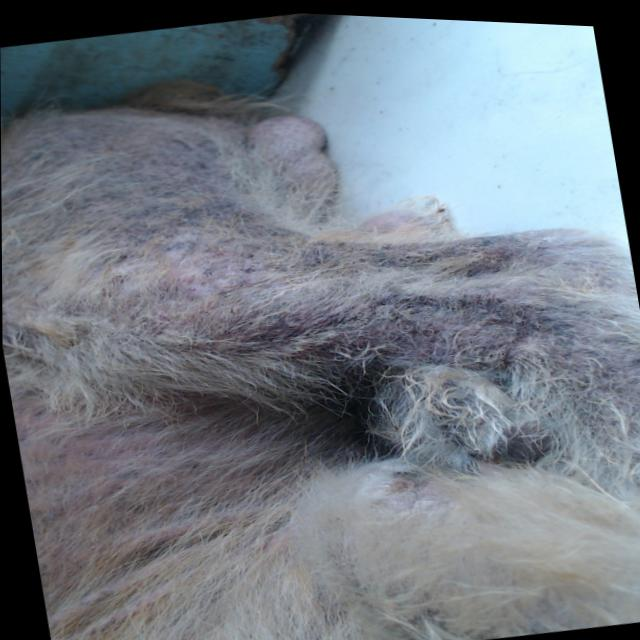demodicosis: (236, 205, 618, 404), (46, 110, 245, 271), (46, 398, 247, 516), (367, 454, 449, 515)
